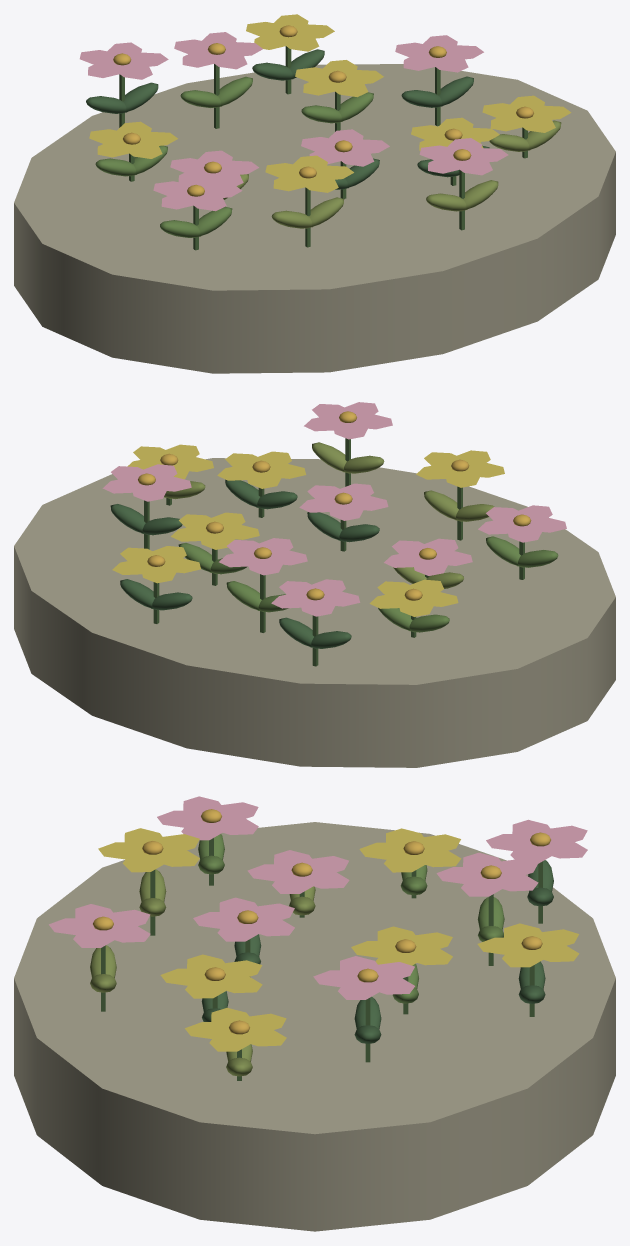
3 views of the same model, one above another, from view 1: azimuth 30°, elevation 25°; view 2: azimuth 150°, elevation 25°; view 3: azimuth 270°, elevation 25° (orthographic). The views are drawn at different scales.
Visible parts, largest first — view 1: climb-flowers-1-0, 화단 02; view 2: climb-flowers-1-0, 화단 02; view 3: climb-flowers-1-0, 화단 02.
Boxes of the visible parts, <box> form: climb-flowers-1-0: <box>14,64,615,373</box>; 화단 02: <box>79,14,571,250</box>; climb-flowers-1-0: <box>14,458,615,767</box>; 화단 02: <box>102,402,566,666</box>; climb-flowers-1-0: <box>14,822,615,1231</box>; 화단 02: <box>49,796,587,1080</box>.
Size of the model in its own units: 2.75 by 0.803 by 2.24.
